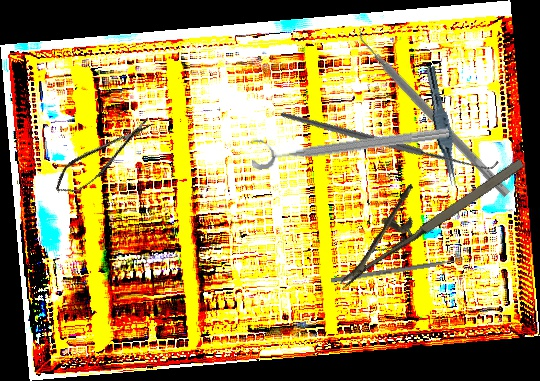Fixation Ring: (248, 111, 451, 171)
Hook Surgical: (279, 28, 500, 249)
Micro Scissor: (47, 112, 161, 201)
Needle Holder: (314, 128, 529, 289)
Pusher: (330, 255, 473, 284)
Spatula Surgical: (349, 25, 518, 198)
Tissue Forceps: (418, 65, 465, 188)
